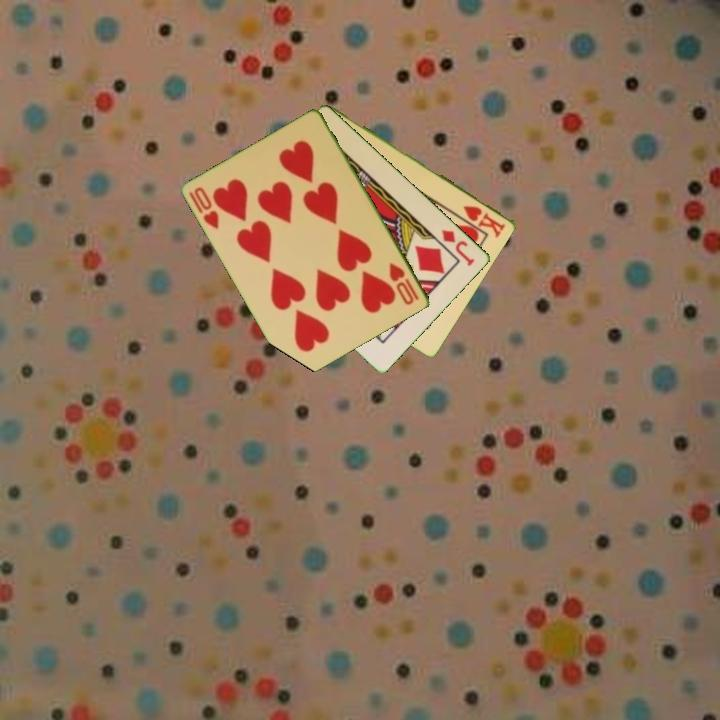10h: (386, 259, 422, 308), (186, 183, 222, 232)
Jd: (438, 226, 478, 269)
Kh: (460, 202, 509, 240)
